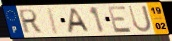1: (89, 6, 106, 34)
A: (67, 7, 92, 34)
E: (107, 5, 134, 34)
I: (46, 6, 61, 35)
R: (18, 9, 43, 35)
U: (127, 5, 153, 33)
